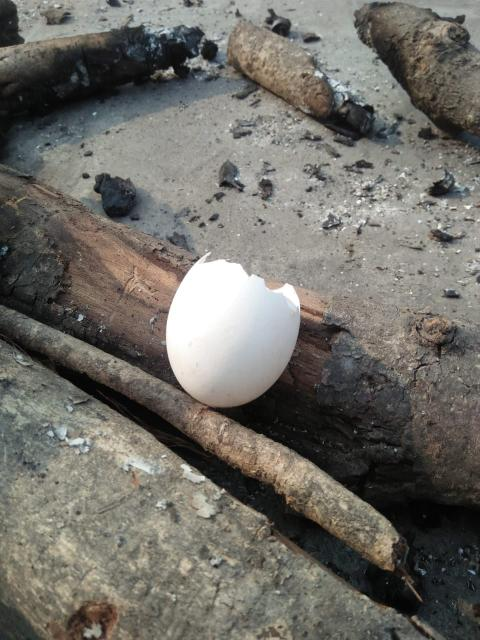Roto: (164, 252, 301, 408)
